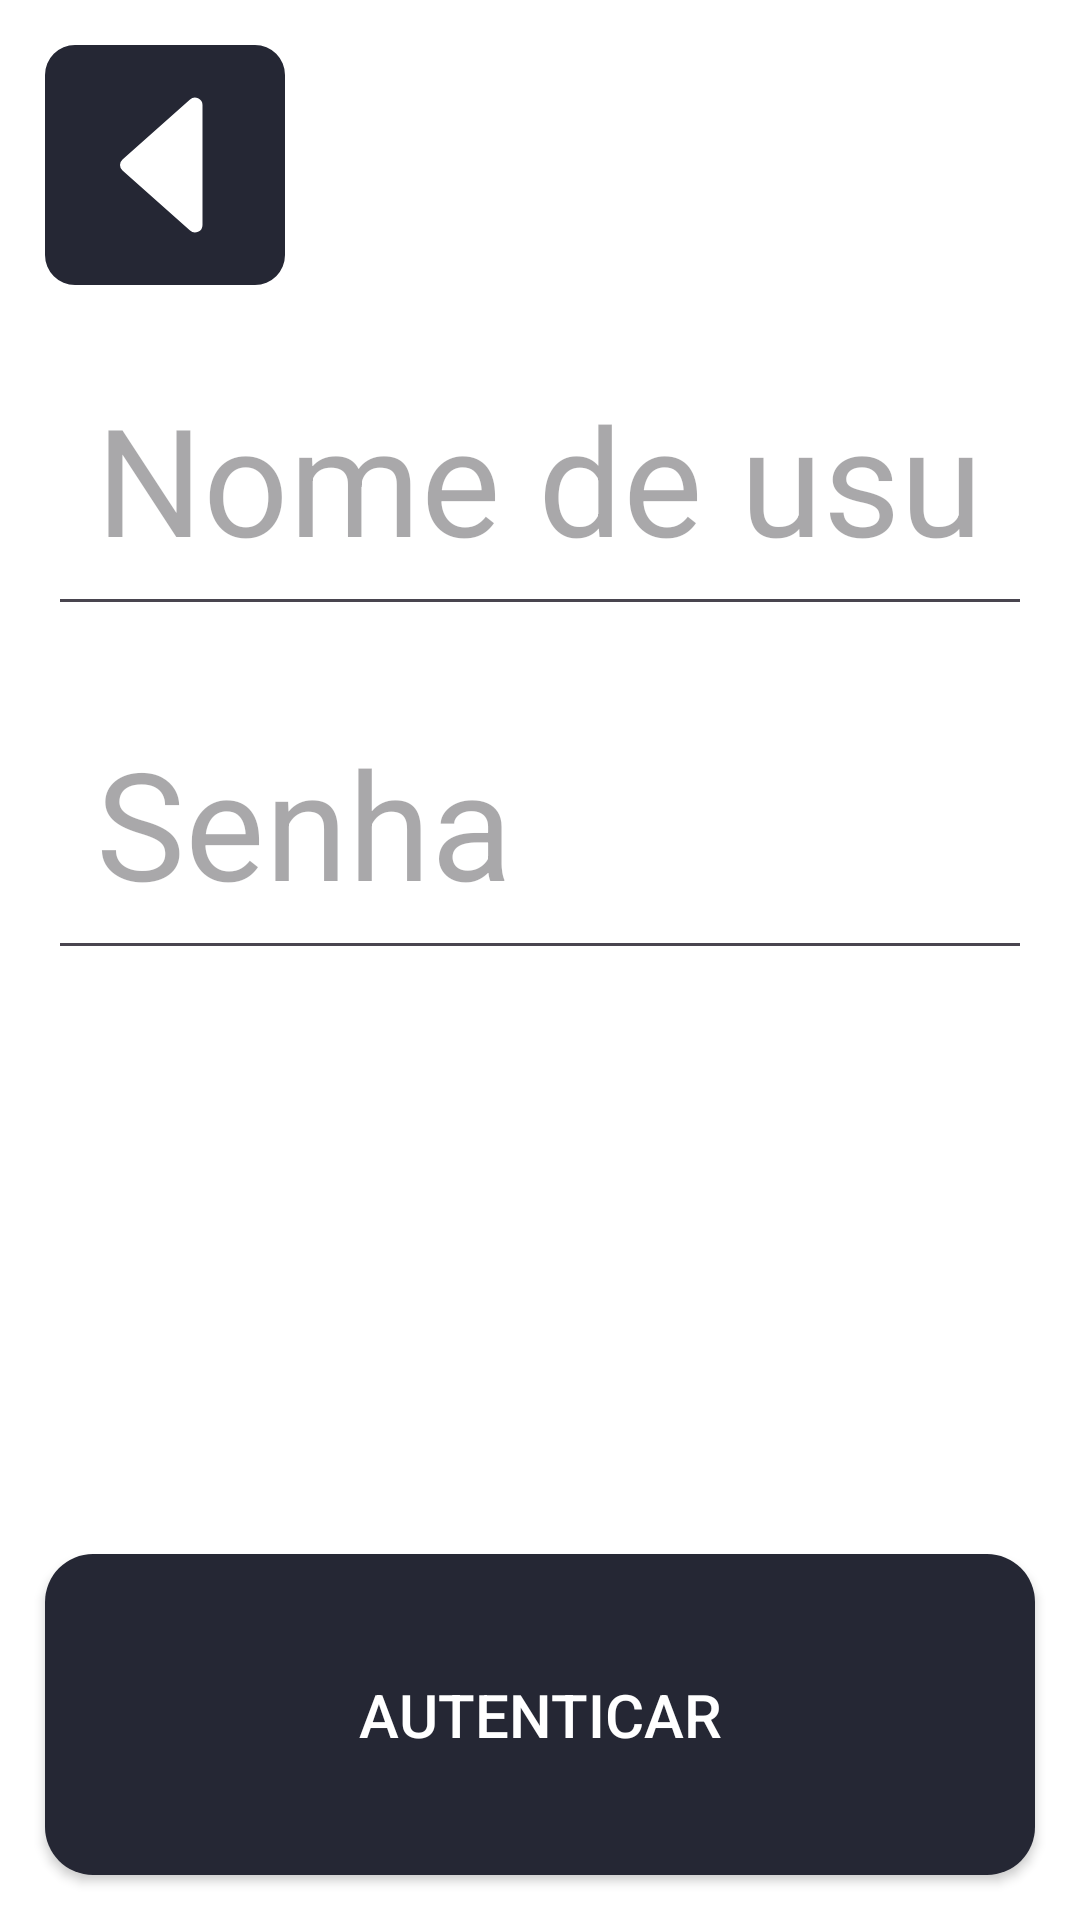

Icon bounding boxes for this 1080px×1920px phone screenshot, format (x1, y1, x2, y2):
voltar: (45, 45, 285, 285)
